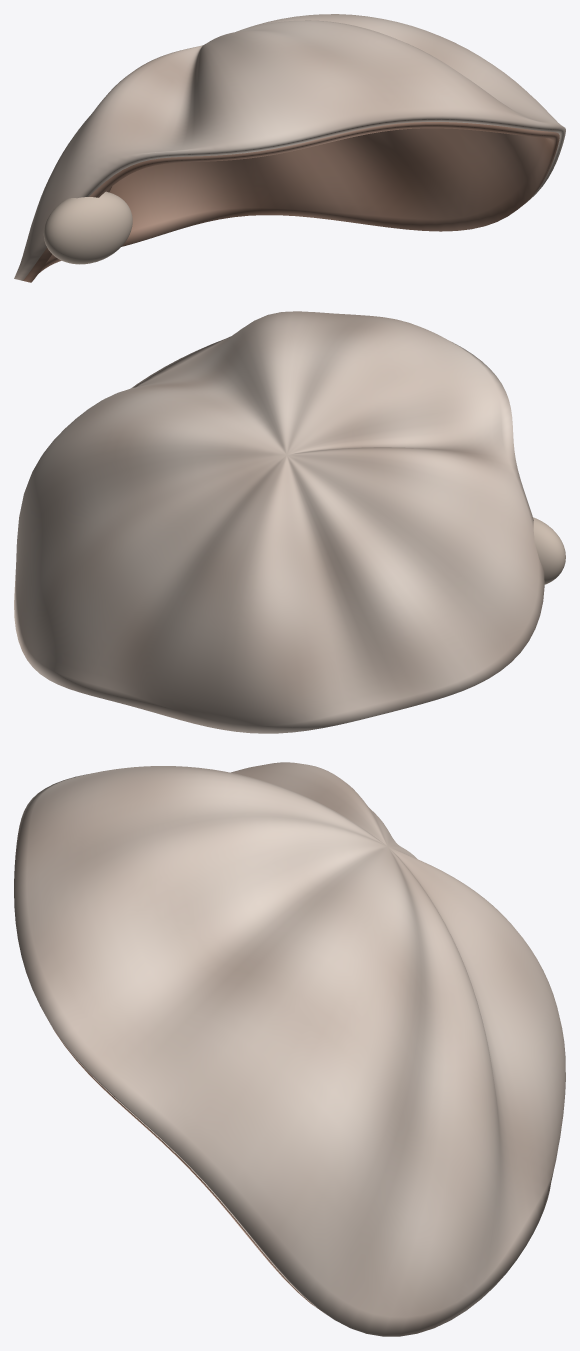
The model's file is auricularia-auricula-judae.glb.
The picture shows the model from 3 angles, top to bottom: view 1: azimuth 30°, elevation 25°; view 2: azimuth 150°, elevation 25°; view 3: azimuth 270°, elevation 25°; orthographic projection. The views are drawn at different scales.
Parts seen in each view (by area): view 1: abhymenial_layer, hymenial_layer, attachment_base; view 2: abhymenial_layer, attachment_base; view 3: abhymenial_layer, hymenial_layer.
Part boxes in pixels (left/top/right/bottom): abhymenial_layer: left=14, top=14, right=565, bottom=280; hymenial_layer: left=23, top=122, right=559, bottom=282; attachment_base: left=43, top=191, right=132, bottom=264; abhymenial_layer: left=14, top=311, right=544, bottom=733; attachment_base: left=533, top=517, right=565, bottom=584; abhymenial_layer: left=14, top=762, right=565, bottom=1336; hymenial_layer: left=48, top=1020, right=324, bottom=1313.
Bounding box in the file's own units: 1.84 × 1.04 × 1.3.
